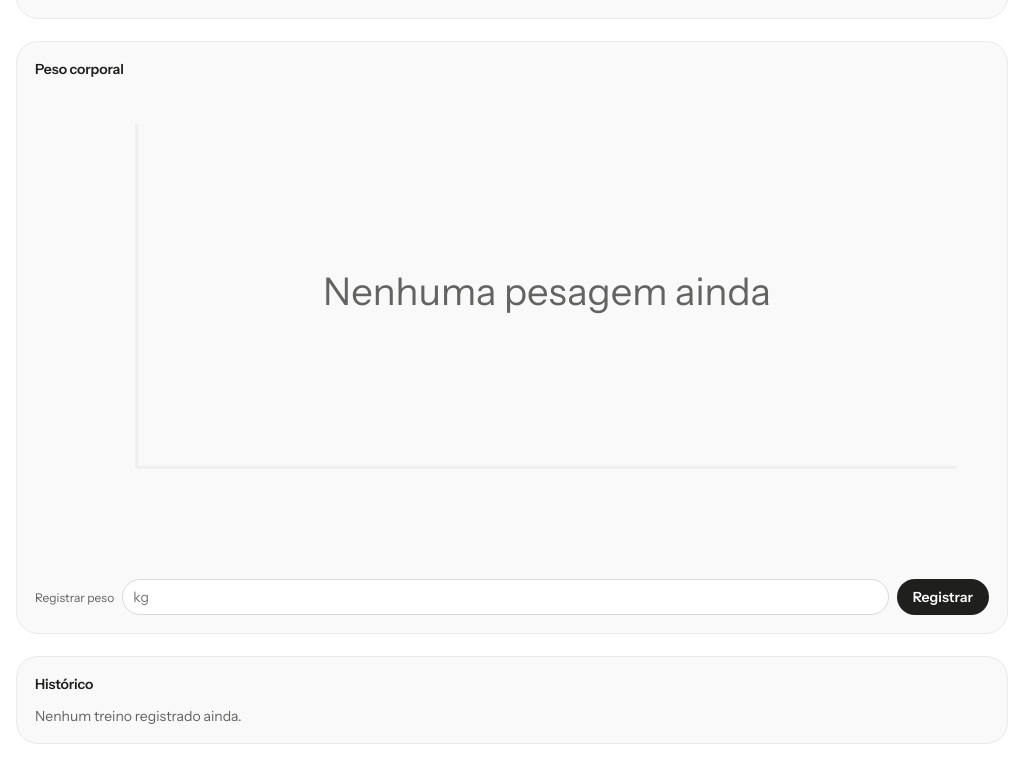
it: Progress screen › log failure › preserves the input value and shows an error when logBodyweight rejects
(page scrolled)
In the number field: (505, 597) [122,579,889,615], type "77.5"
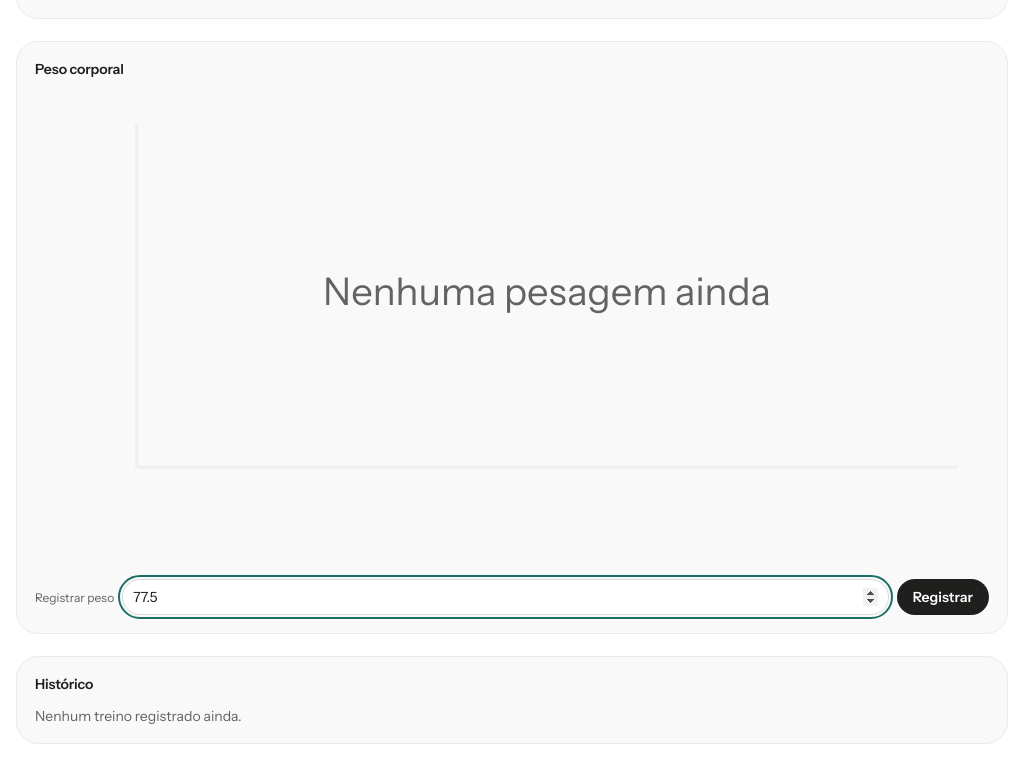
Click the button "Registrar": (943, 597) [897,579,989,615]
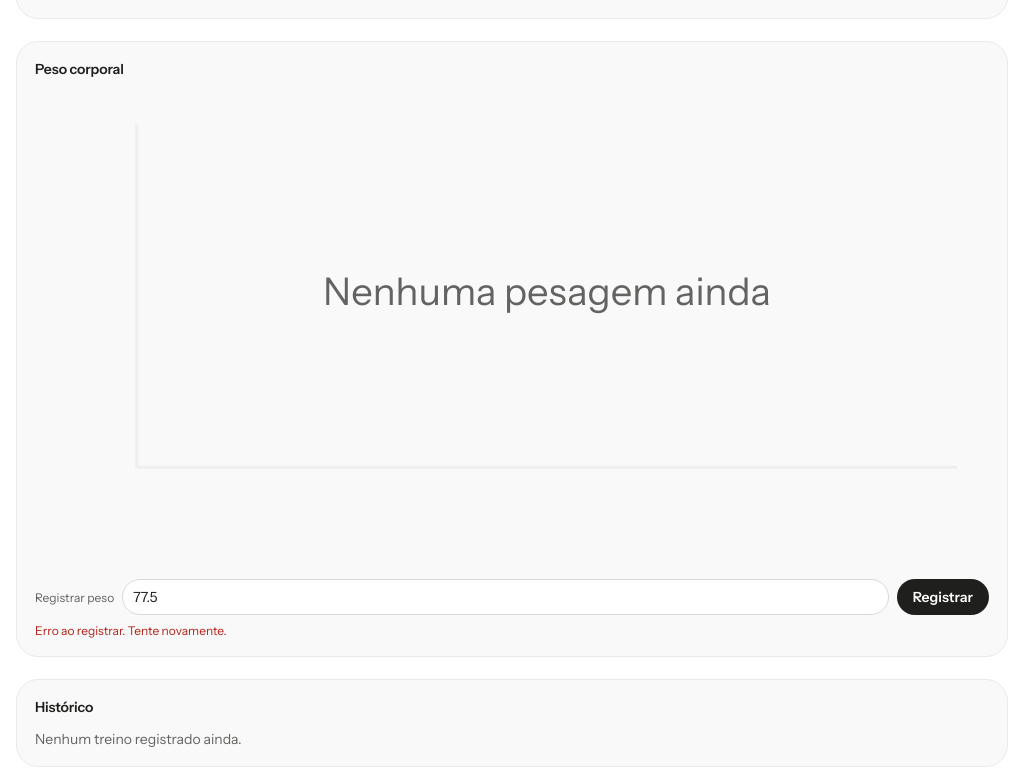
Result: the message "Erro ao registrar. Tente novamente." is shown at [35,623,227,638]
